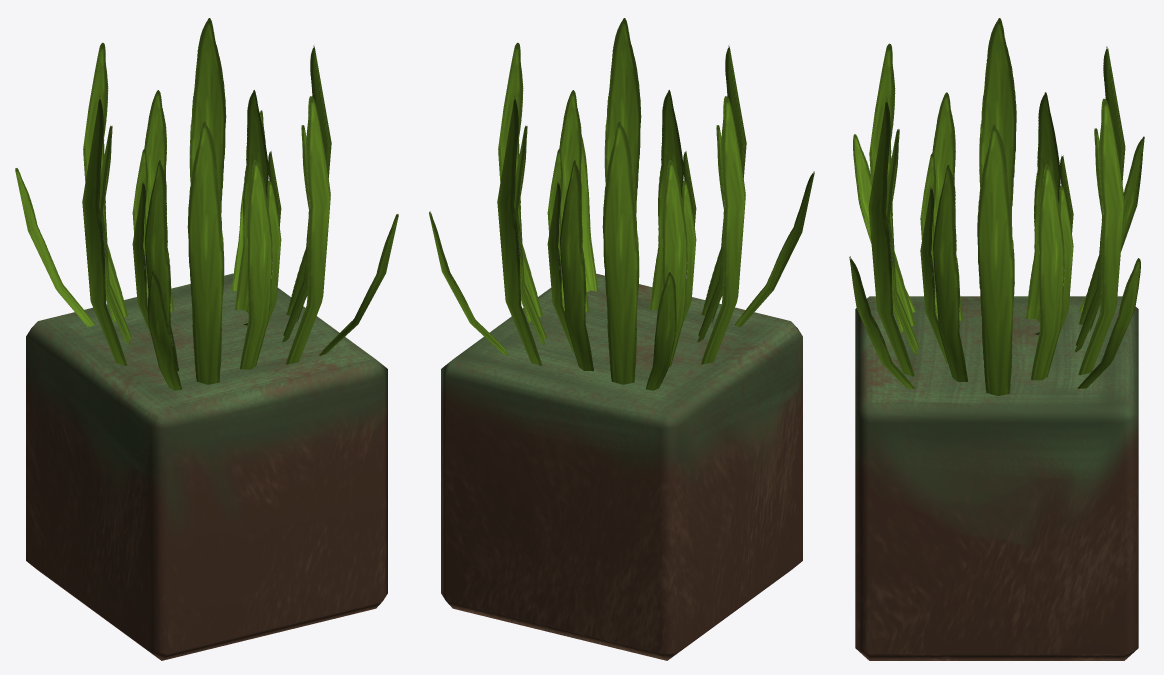
Rendered from di_chushi.fbx.
The picture shows the model from 3 angles, left to right: view 1: azimuth 30°, elevation 25°; view 2: azimuth 150°, elevation 25°; view 3: azimuth 270°, elevation 25°; orthographic projection. The views are drawn at different scales.
Visible parts, largest first — view 1: di_chushi; view 2: di_chushi; view 3: di_chushi.
Part boxes in pixels (x1=…): di_chushi: x1=15, y1=18, x2=398, y2=660; di_chushi: x1=429, y1=18, x2=814, y2=660; di_chushi: x1=849, y1=18, x2=1144, y2=660.
Size of the model in its own units: 4.94 by 9.61 by 4.94.
Materials: 1 (1 with a texture image).
